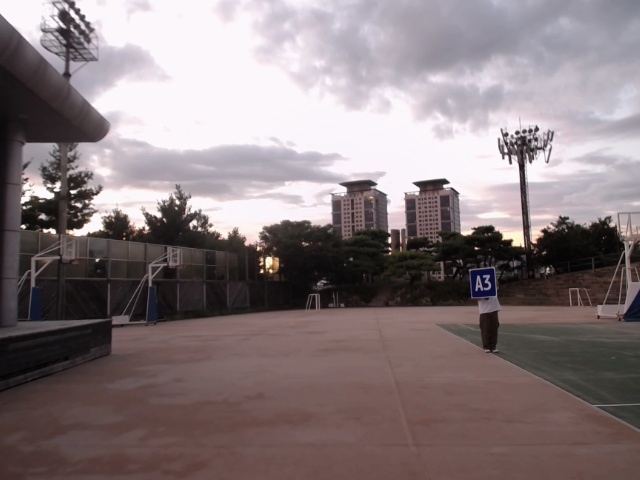delivery_a3: (469, 269, 497, 297)
